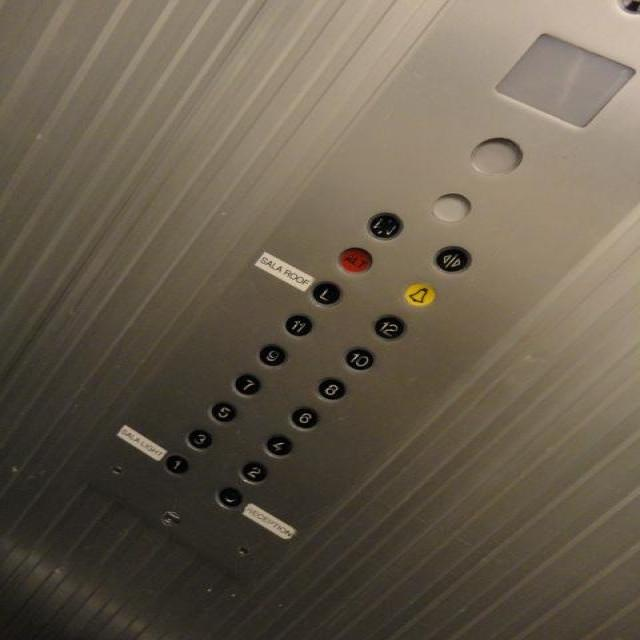1: (160, 453, 188, 476)
10: (341, 346, 375, 370)
11: (283, 313, 313, 337)
12: (371, 313, 406, 340)
2: (235, 459, 268, 484)
3: (186, 428, 213, 450)
4: (261, 433, 292, 457)
5: (207, 401, 236, 423)
6: (286, 405, 318, 429)
7: (231, 372, 260, 396)
8: (313, 375, 348, 400)
9: (254, 342, 286, 366)
ALT: (336, 246, 372, 273)
L: (306, 280, 342, 307)
alarm: (400, 281, 435, 306)
blur: (212, 484, 243, 510), (156, 509, 179, 528)
close: (367, 209, 404, 239)
led: (493, 33, 636, 128)
open: (432, 242, 471, 274)
